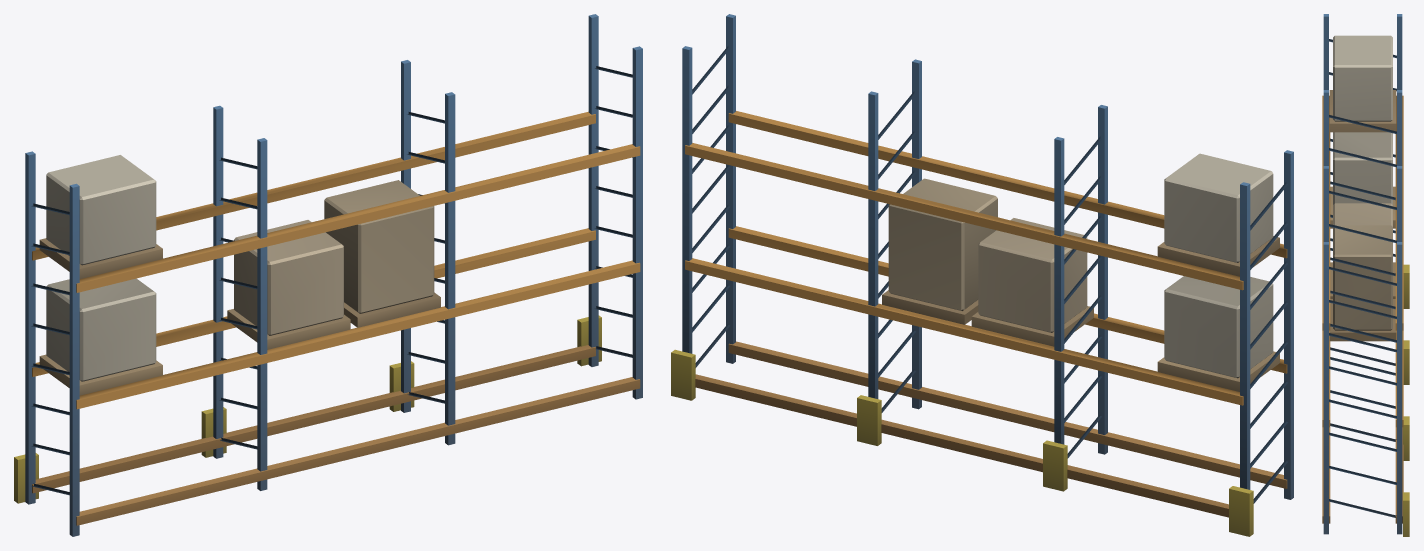
File: rack_half.glb
3 renders of one model, left to right at view 1: azimuth 30°, elevation 25°; view 2: azimuth 150°, elevation 25°; view 3: azimuth 270°, elevation 25°, orthographic. The views are drawn at different scales.
Parts seen in each view (by area): view 1: rack_half; view 2: rack_half; view 3: rack_half.
Part boxes in pixels (left/top/right/bottom): rack_half: left=14, top=14, right=642, bottom=536; rack_half: left=671, top=14, right=1293, bottom=536; rack_half: left=1322, top=14, right=1409, bottom=536.
Bounding box in the file's own units: 8.4 × 4.8 × 1.31.
